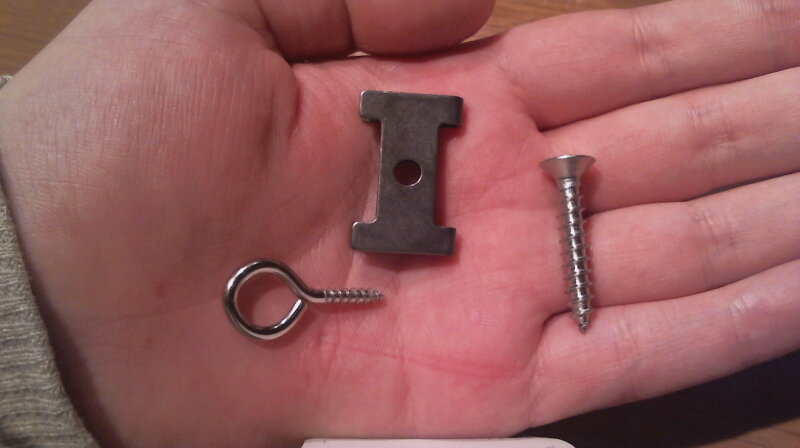O001: (214, 256, 385, 343)
O002: (351, 86, 461, 265)
S001: (535, 151, 603, 333)
